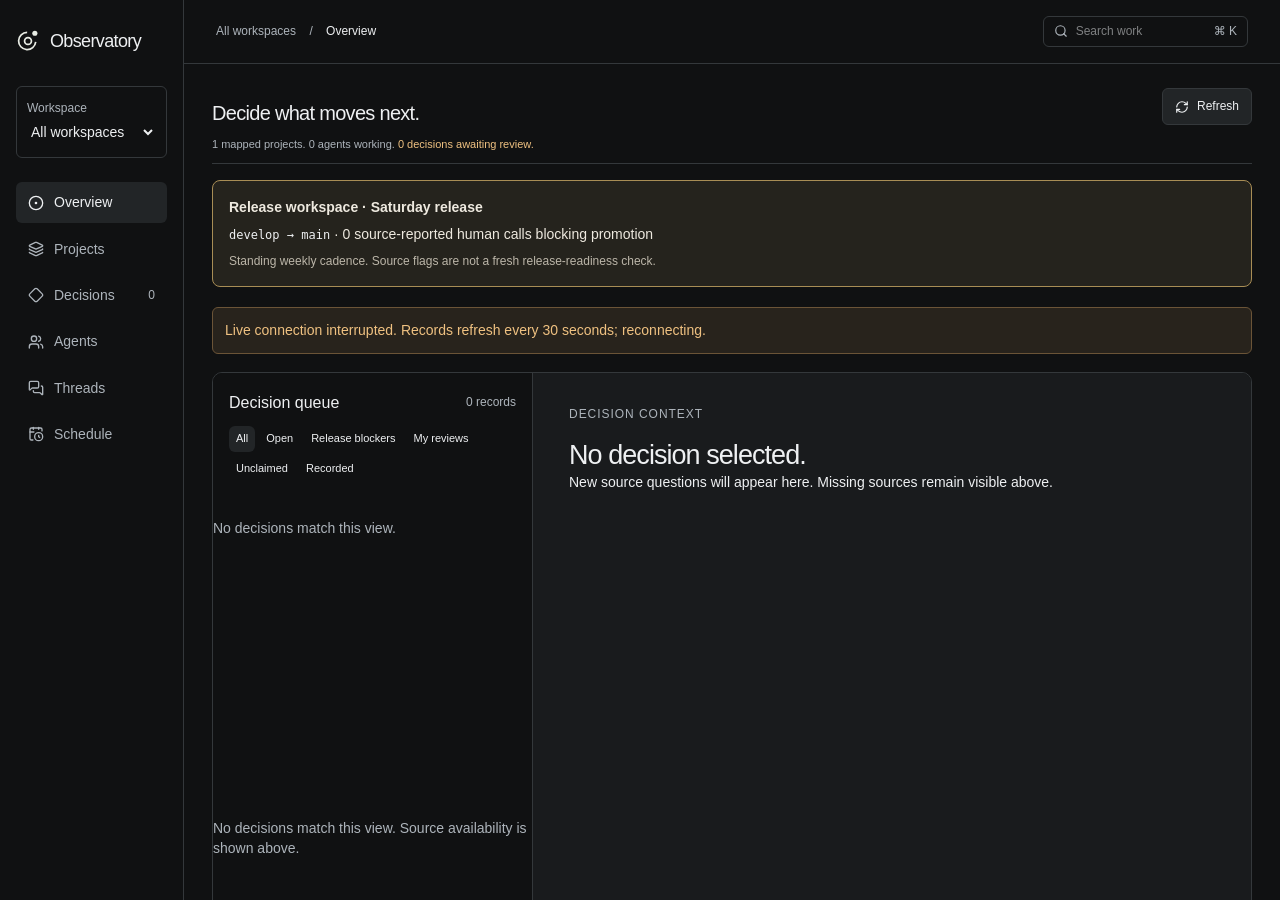
Test: Signal live refresh and paging › hides Saturday cadence after switching to a different workspace even when the release workspace remains visible
Check: the element "Saturday release" is shown, box [212,180,1252,287]
Step 1. Select "Other workspace" in the dropdown labelled "Workspace" → (92, 132), box [27,118,156,148]
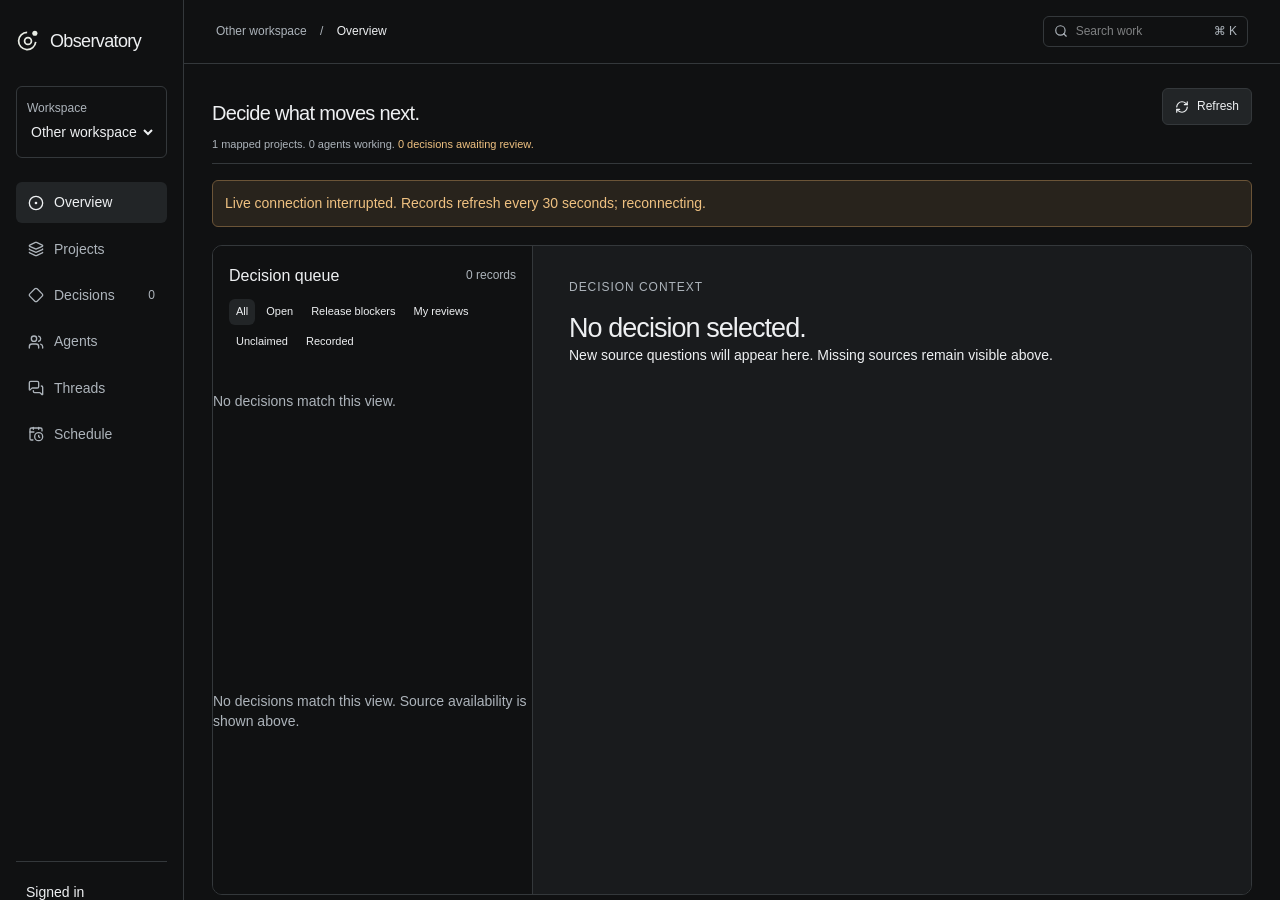
Check: the text "Saturday release" is gone
